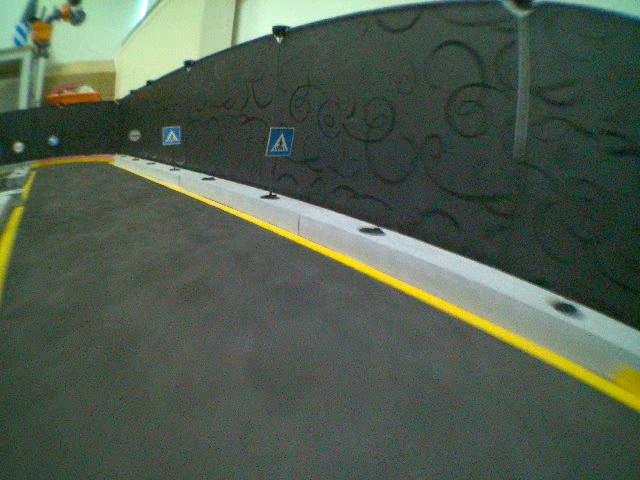Check: (127, 128, 142, 143)
crossing: (263, 123, 296, 158), (162, 124, 181, 146)
